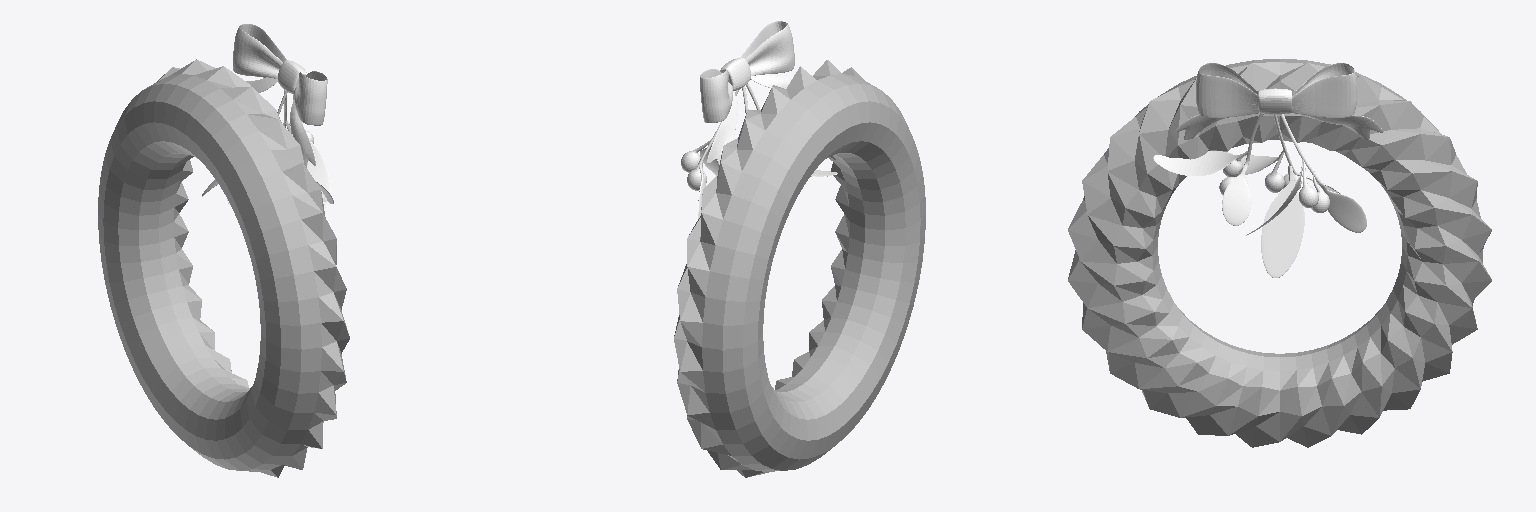
The model's file is cor.obj.
The picture shows the model from 3 angles: view 1: azimuth 30°, elevation 25°; view 2: azimuth 150°, elevation 25°; view 3: azimuth 270°, elevation 25°; orthographic projection.
Parts seen in each view (by area): view 1: Torus, 12153_mistletoe_v2_l3; view 2: Torus, 12153_mistletoe_v2_l3; view 3: Torus, 12153_mistletoe_v2_l3.
Boxes of the visible parts, <box> form: Torus: <box>98,59,349,477</box>; 12153_mistletoe_v2_l3: <box>202,24,333,209</box>; Torus: <box>674,60,925,477</box>; 12153_mistletoe_v2_l3: <box>681,21,837,218</box>; Torus: <box>1068,59,1491,447</box>; 12153_mistletoe_v2_l3: <box>1153,63,1382,277</box>.
Bounding box in the file's own units: 1.01 × 2.72 × 2.61.